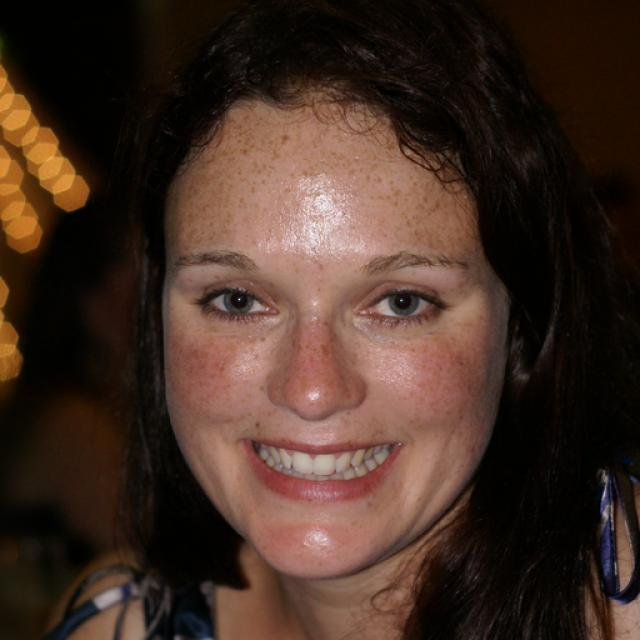Acne: (293, 536, 313, 555)
Pigmentation: (166, 115, 295, 253), (405, 329, 503, 443), (271, 313, 363, 403), (169, 335, 267, 416)
